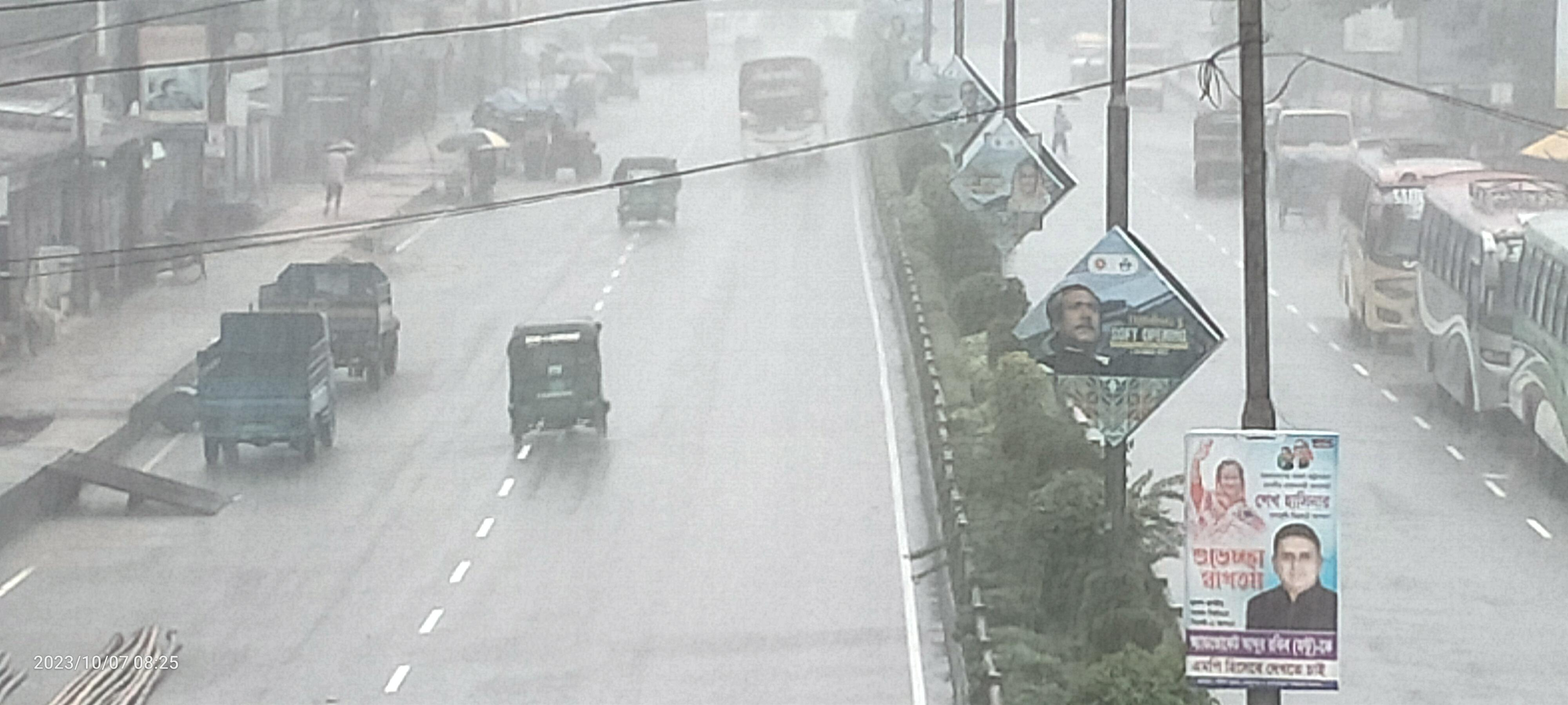Bus: (1320, 108, 1468, 374), (1408, 157, 1535, 426), (1491, 183, 1568, 472), (728, 31, 840, 182)
Truck: (141, 277, 364, 493), (234, 240, 416, 392)
